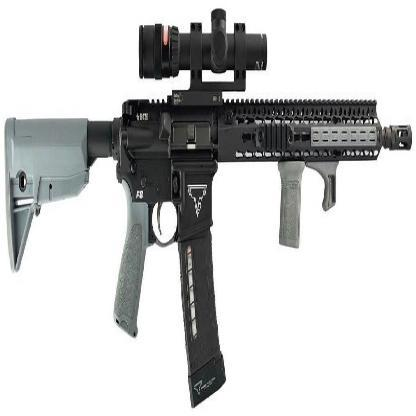gun: (1, 6, 414, 392)
